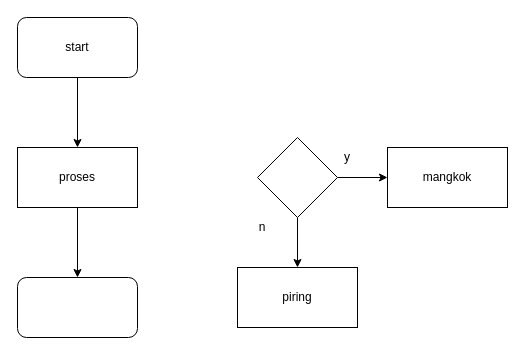
Image size: 525x355. Some labels were removed from this diagram. The shapes that lost their labels are listed below. From the top down, each one's centre as x and y in pixels, then its label:
At [297,177]: "mie kuah".
At [77,307]: "end".
